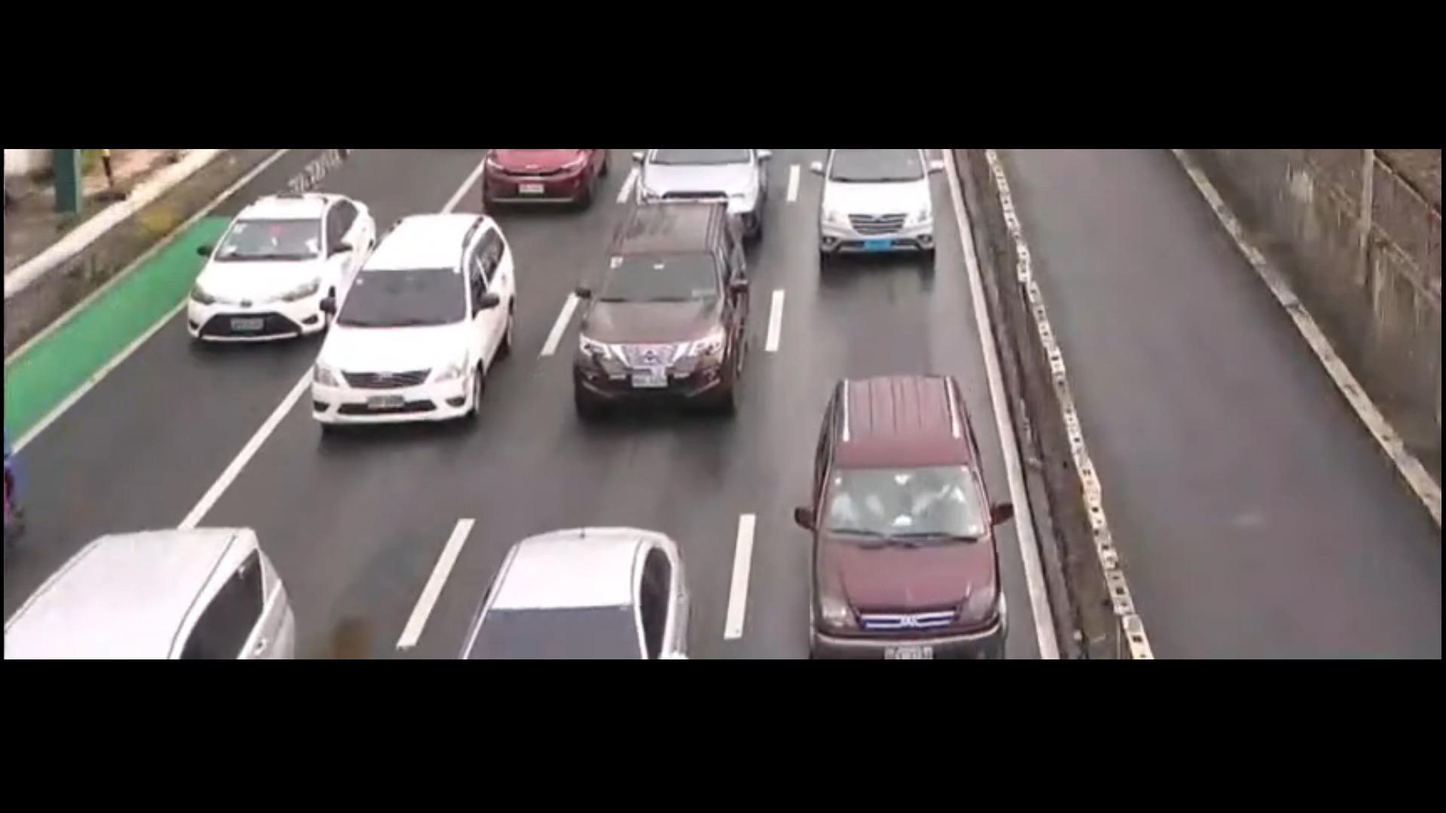SUV: (793, 360, 1023, 652), (292, 198, 535, 437), (0, 518, 307, 669), (560, 202, 759, 429), (629, 147, 793, 243), (812, 146, 938, 266)
Sedan: (468, 497, 729, 658), (188, 185, 381, 342)
